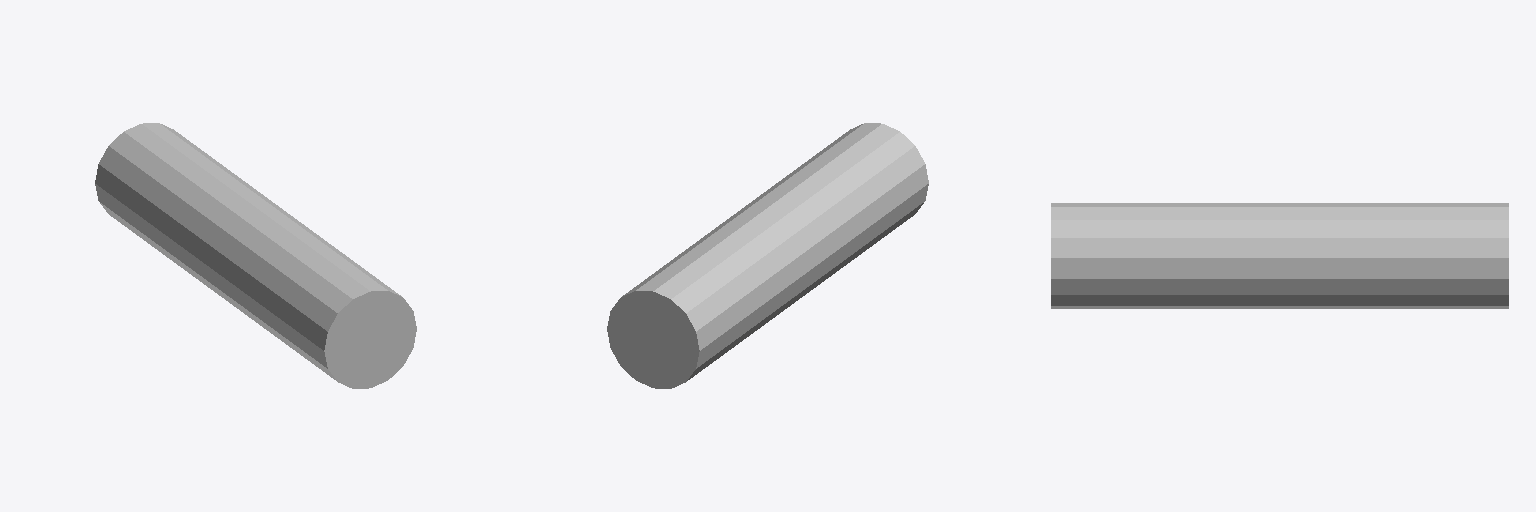
File: BDD_Mat01.obj
3 views of the same model, side by side, from view 1: azimuth 30°, elevation 25°; view 2: azimuth 150°, elevation 25°; view 3: azimuth 270°, elevation 25° (orthographic).
Parts seen in each view (by area): view 1: Mat00; view 2: Mat00; view 3: Mat00.
Boxes of the visible parts, x1,y1,x2,y2 form: Mat00: [95, 123, 416, 388]; Mat00: [607, 123, 928, 388]; Mat00: [1051, 203, 1508, 308].
Bounding box in the file's own units: 0.14 × 0.14 × 0.6.